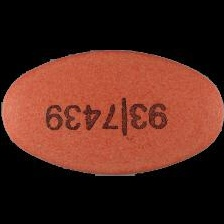0093-7439: (0, 0, 224, 224)
